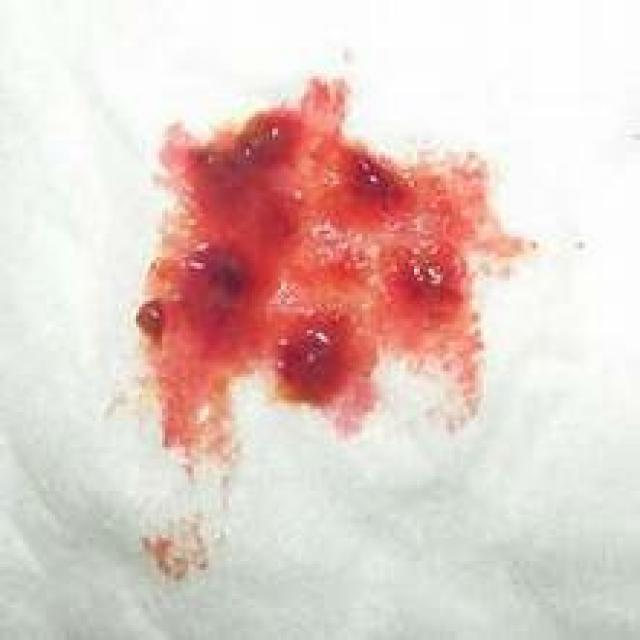wound: (113, 56, 514, 502)
